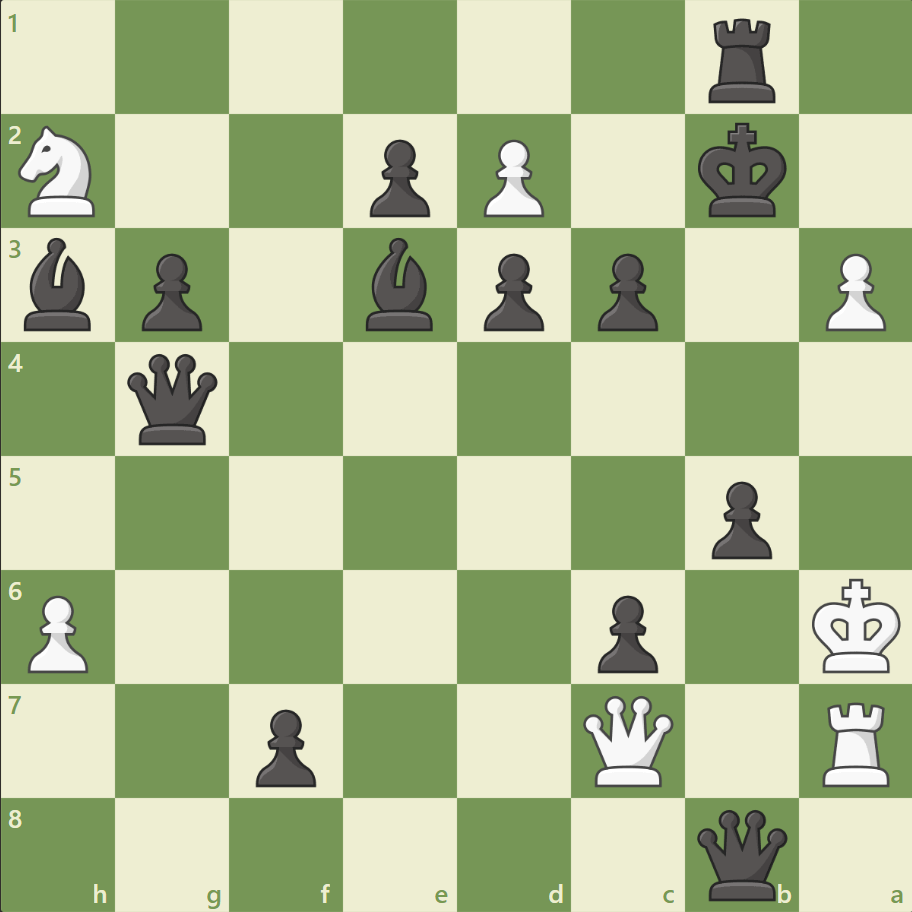K: (806, 571, 906, 679)
N: (11, 121, 108, 223)
P: (20, 586, 95, 677), (474, 132, 549, 223), (815, 246, 889, 337)
Q: (578, 690, 677, 789)
R: (814, 693, 897, 790)
b: (358, 233, 442, 336), (17, 233, 101, 336)
k: (692, 117, 792, 225)
p: (247, 700, 322, 791), (701, 473, 776, 564), (474, 246, 549, 337), (133, 246, 208, 337), (588, 586, 662, 677), (588, 246, 662, 337), (361, 132, 435, 223)
q: (124, 349, 223, 449), (691, 804, 790, 903)
r: (700, 12, 783, 109)
